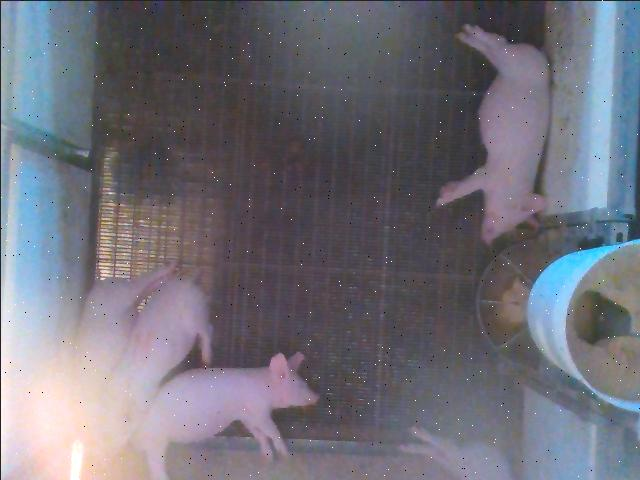pig-4: (104, 278, 210, 446)
